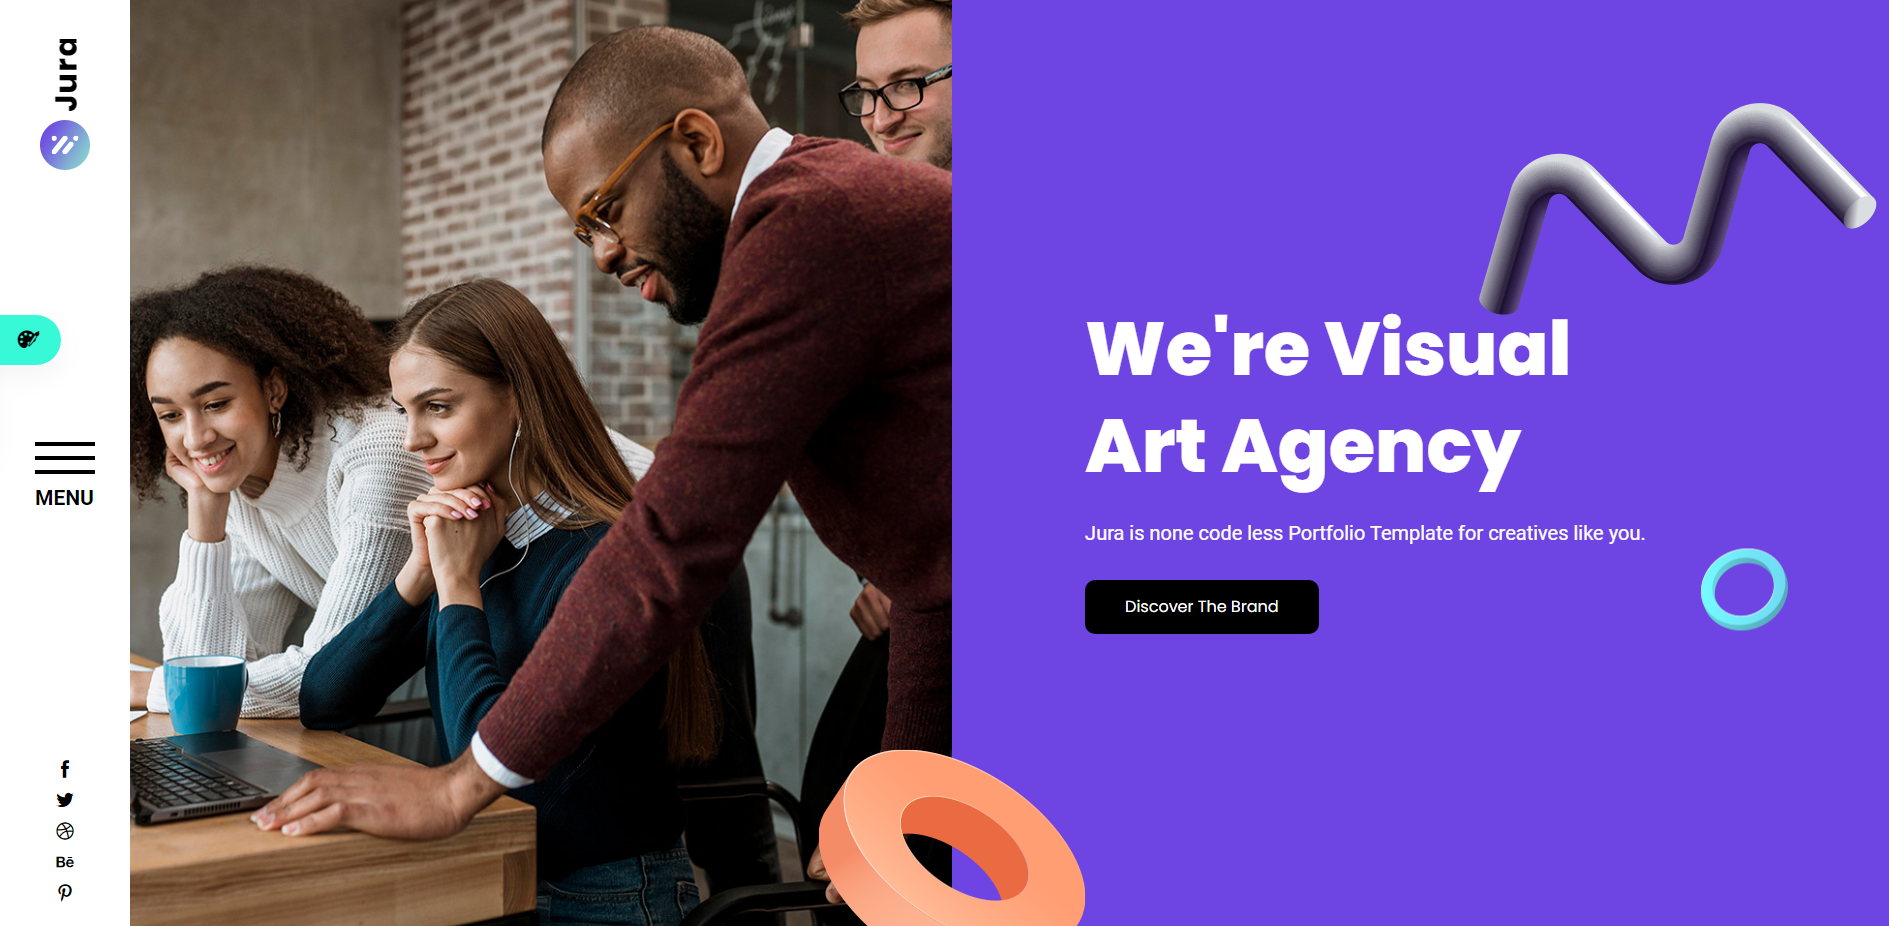menu-icon: (5, 11, 196, 926)
